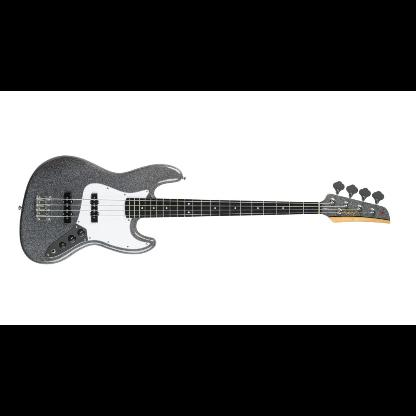bass: (18, 155, 390, 265)
